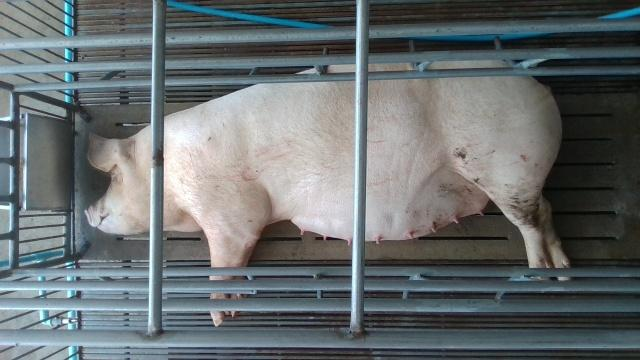sow-sleep-lactate: (85, 63, 567, 327)
